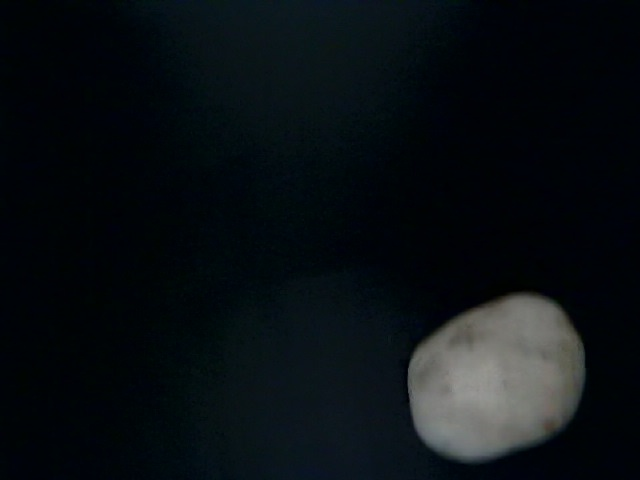QTLJ: (238, 380, 413, 480)
